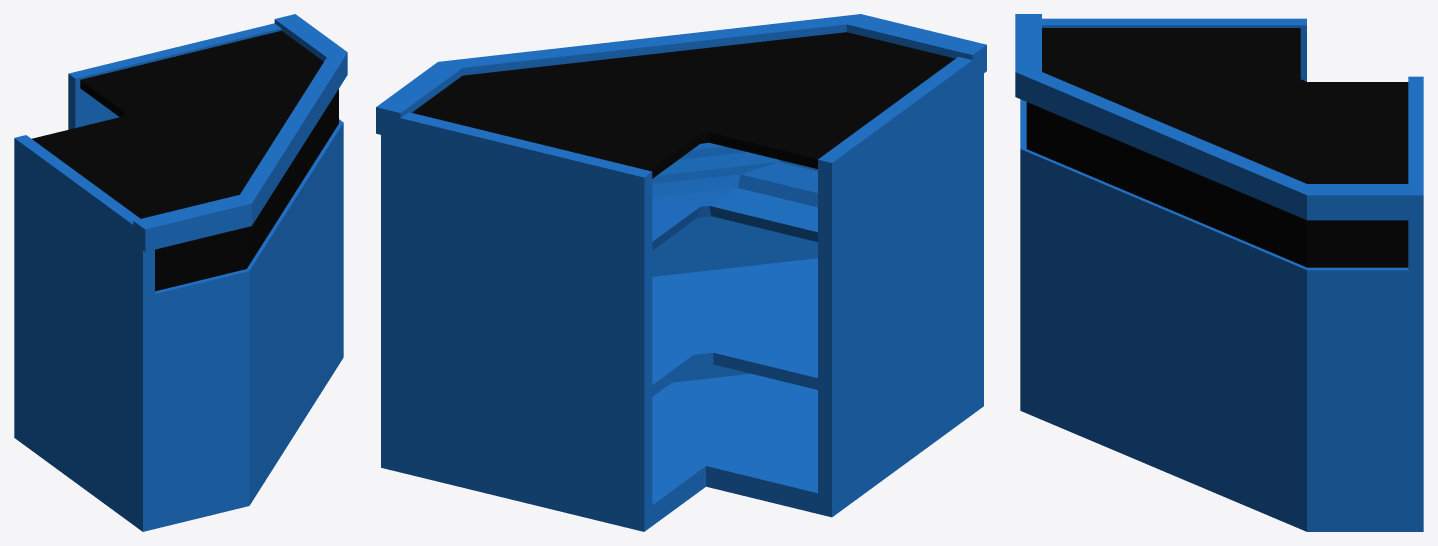
The model's file is SM_showcase.fbx.
3 renders of one model, left to right at view 1: azimuth 30°, elevation 25°; view 2: azimuth 150°, elevation 25°; view 3: azimuth 270°, elevation 25°, orthographic. The views are drawn at different scales.
Visible parts, largest first — view 1: Cube_41; view 2: Cube_41; view 3: Cube_41.
Part boxes in pixels (bbox=[...]): Cube_41: bbox=[14, 14, 347, 531]; Cube_41: bbox=[376, 14, 986, 531]; Cube_41: bbox=[1015, 14, 1423, 531].
Size of the model in its own units: 105 by 91.27 by 99.75.
